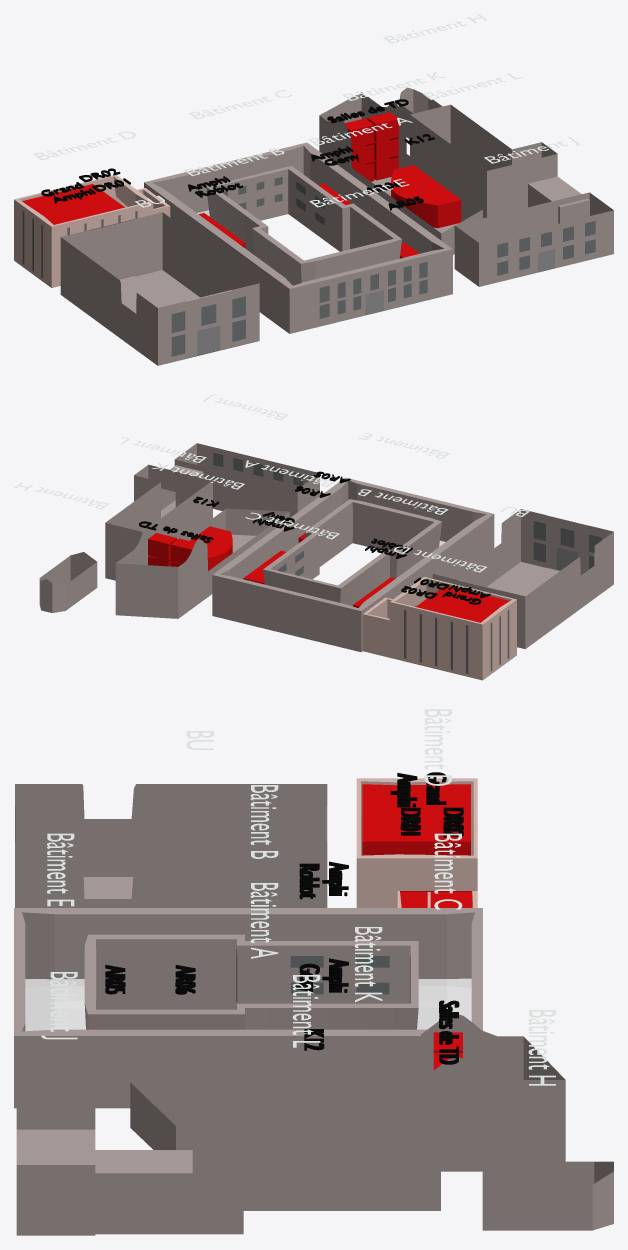
Rendered from planfac18.glb.
3 renders of one model, top to bottom at view 1: azimuth 30°, elevation 25°; view 2: azimuth 150°, elevation 25°; view 3: azimuth 270°, elevation 25°, orthographic. The views are drawn at different scales.
Visible parts, largest first — view 1: Bâtiment principal, Cube.001, Cube.006, Cube.005, Cube, Cube.004, Roblot.005, Geny.003, Roblot.003, Roblot.004, Cube.007, Roblot; view 2: Bâtiment principal, Cube.001, Cube, Cube.004, Cube.006, Cube.005, Cube.007, Geny.003, Roblot.005, Roblot.003, Roblot.004, Roblot (+1 smaller); view 3: Bâtiment principal, Cube.006, Cube.001, Cube.004, Cube.005, Cube.007, Cube, Geny.003, Roblot, GA, TD, E (+9 smaller).
Boxes of the visible parts, x1,y1,x2,y2 form: Bâtiment principal: (144, 142, 452, 333); Cube.001: (60, 212, 259, 365); Cube.006: (410, 104, 589, 223); Cube.005: (454, 192, 613, 286); Cube: (14, 175, 170, 287); Cube.004: (319, 92, 482, 254); Roblot.005: (391, 165, 461, 228); Geny.003: (22, 184, 124, 224); Roblot.003: (367, 112, 398, 180); Roblot.004: (345, 118, 374, 181); Cube.007: (398, 87, 442, 138); Roblot: (188, 176, 242, 197); Bâtiment principal: (212, 477, 494, 652); Cube.001: (432, 509, 613, 649); Cube: (362, 577, 516, 680); Cube.004: (115, 508, 289, 618); Cube.006: (105, 464, 212, 580); Cube.005: (174, 443, 319, 517); Cube.007: (39, 552, 97, 612); Geny.003: (416, 586, 509, 622); Roblot.005: (190, 526, 232, 570); Roblot.003: (148, 533, 176, 566); Roblot.004: (170, 538, 195, 566); Roblot: (365, 538, 412, 558); Bâtiment principal: (14, 908, 482, 1108); Cube.006: (89, 1081, 440, 1234); Cube.001: (15, 784, 327, 907); Cube.004: (130, 1014, 565, 1171); Cube.005: (16, 1059, 95, 1235); Cube.007: (482, 1161, 613, 1230); Cube: (356, 778, 477, 907); Geny.003: (362, 784, 470, 891); Roblot: (299, 861, 348, 899); GA: (390, 772, 446, 807); TD: (439, 1000, 459, 1064); E: (47, 833, 74, 906).
Size of what is drawn, in the model's own units: 18.21 by 4.08 by 12.02.
